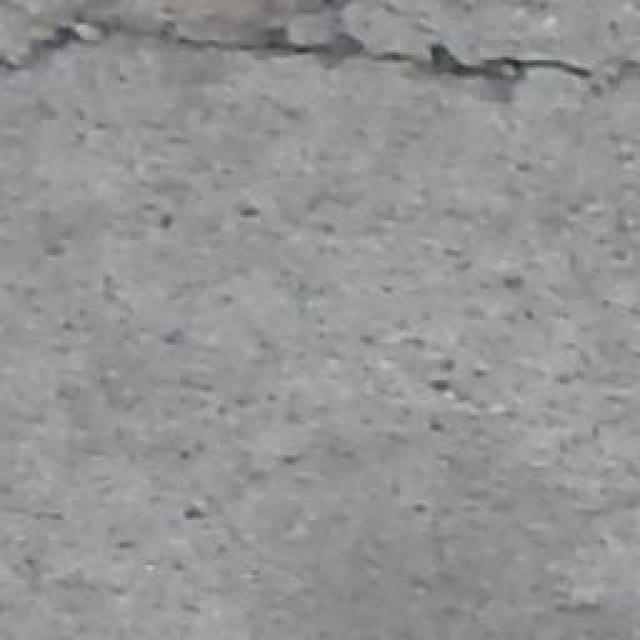concrete-crack: (2, 10, 637, 83)
